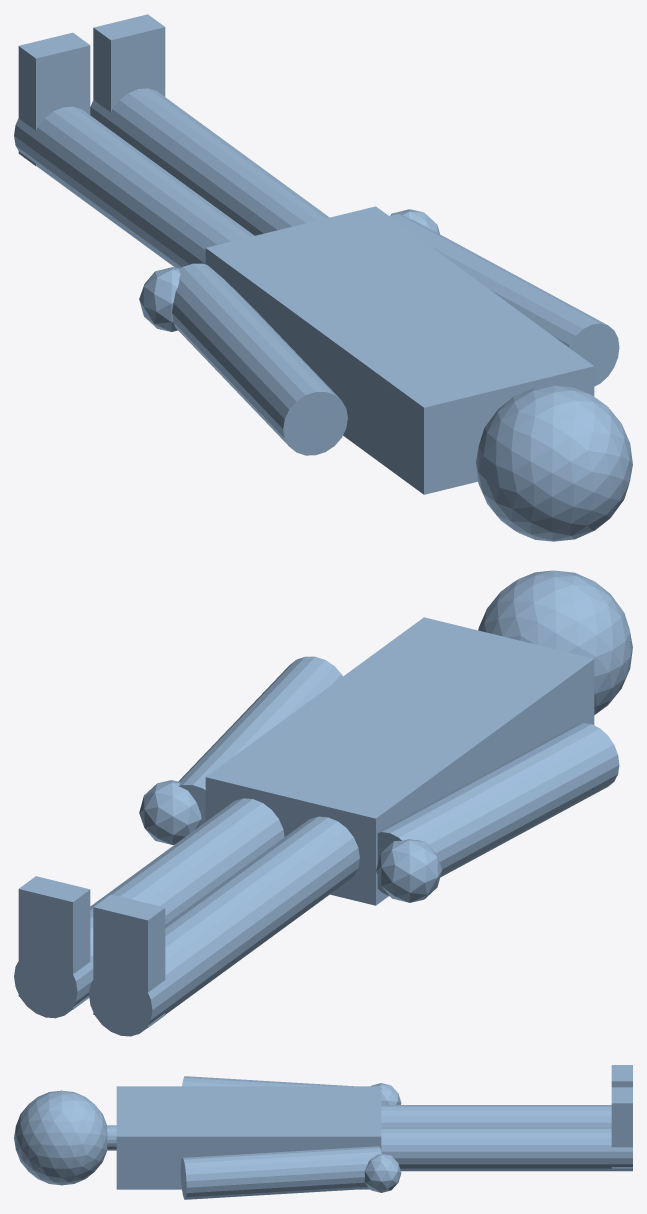
Rendered from thin.glb.
The picture shows the model from 3 angles, top to bottom: view 1: azimuth 30°, elevation 25°; view 2: azimuth 150°, elevation 25°; view 3: azimuth 270°, elevation 25°; orthographic projection. The views are drawn at different scales.
Visible parts, largest first — view 1: world; view 2: world; view 3: world.
Part boxes in pixels (<box>): world: <box>14,14,632,541</box>; world: <box>14,570,632,1036</box>; world: <box>14,1065,632,1199</box>.
Bounding box in the file's own units: 0.8888 × 0.404 × 2.34.
